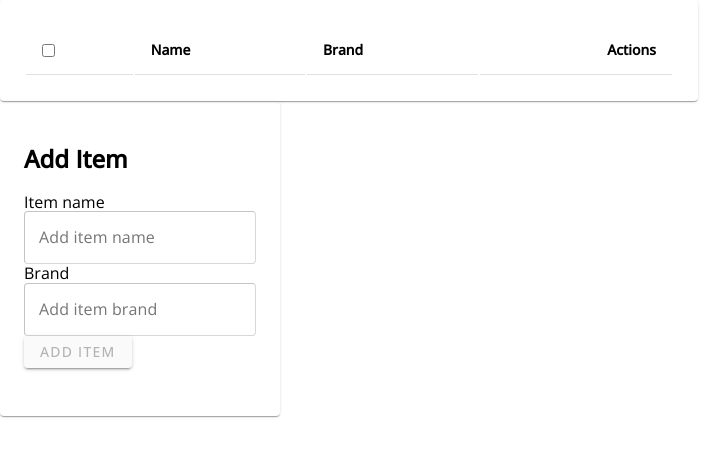
Scenario: <AddItem /> › On submit › should render error message if server request fails
The width and height of the screenshot is (716, 469).
Type "New item name" into the field labelled "Item name" at (140, 238), box [24,211,256,264]
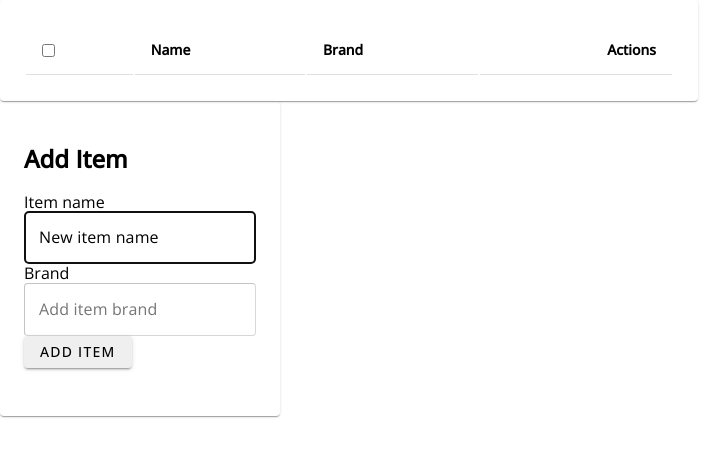
Click the button "Add Item" at (78, 352), box [24,336,132,368]
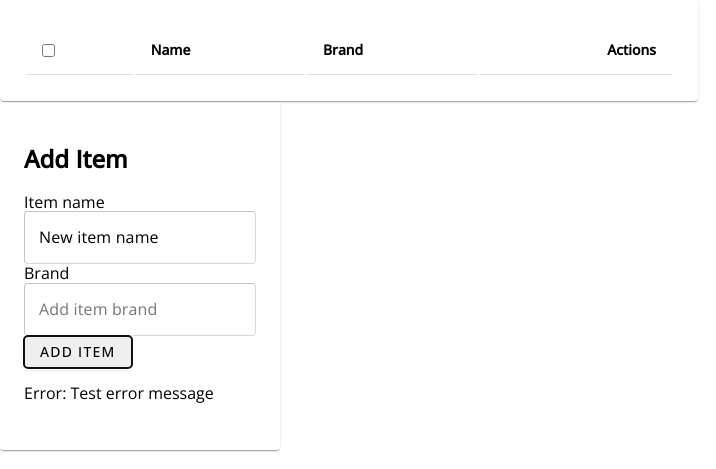
expect the text "Test error message" is shown: met, box [24,382,214,404]
